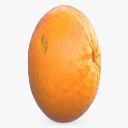orange: (26, 3, 103, 124)
